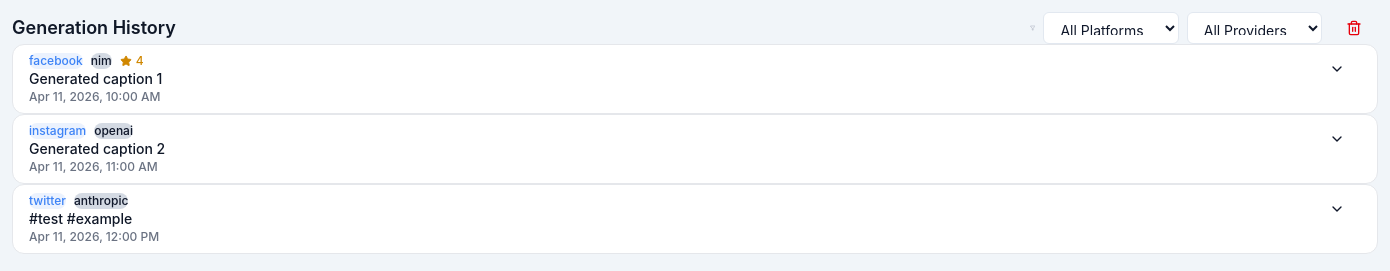
Test case: GenerationHistory › filtering › filters by provider
The image size is (1390, 271).
Select "NVIDIA NIM" in the dropdown named "filter by provider" at (1254, 28), box [1187,12,1322,44]
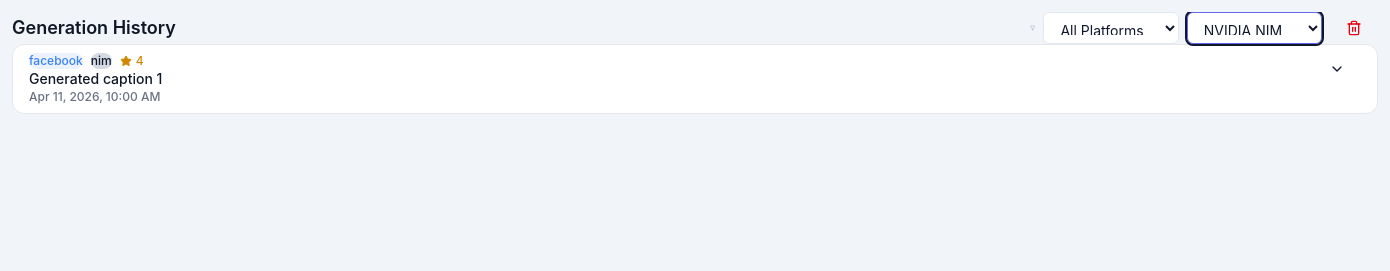
Expected: the text "Generated caption 1" is shown, [29,70,162,87]
Result: the button "Generated caption 2" is gone
